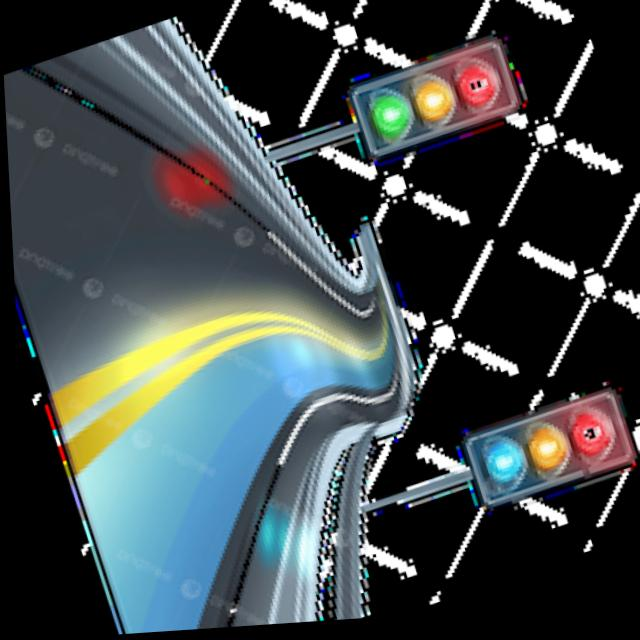green_light: (356, 54, 426, 189)
red_light: (435, 11, 530, 130), (557, 395, 637, 494)
yellow_light: (508, 384, 583, 524), (395, 65, 472, 174)
